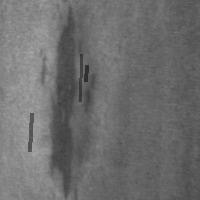inclusion: (33, 3, 84, 198), (80, 69, 104, 115), (78, 52, 83, 103), (27, 111, 33, 153), (83, 63, 88, 83)
